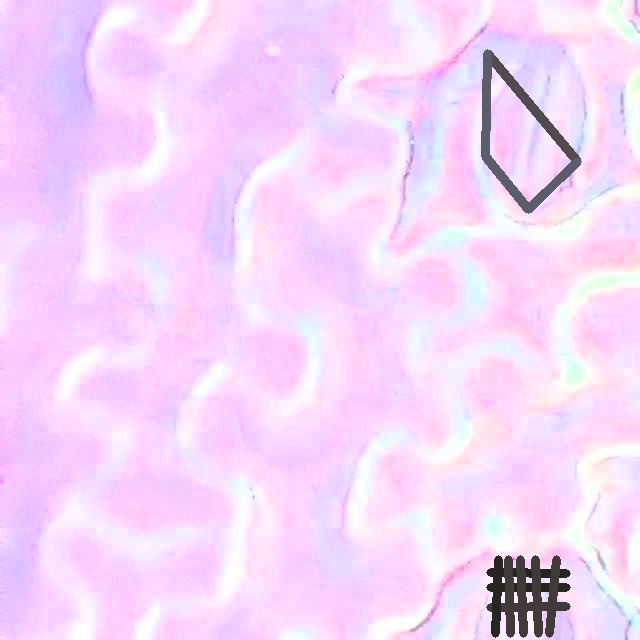open: (481, 49, 581, 213), (486, 555, 570, 637)
